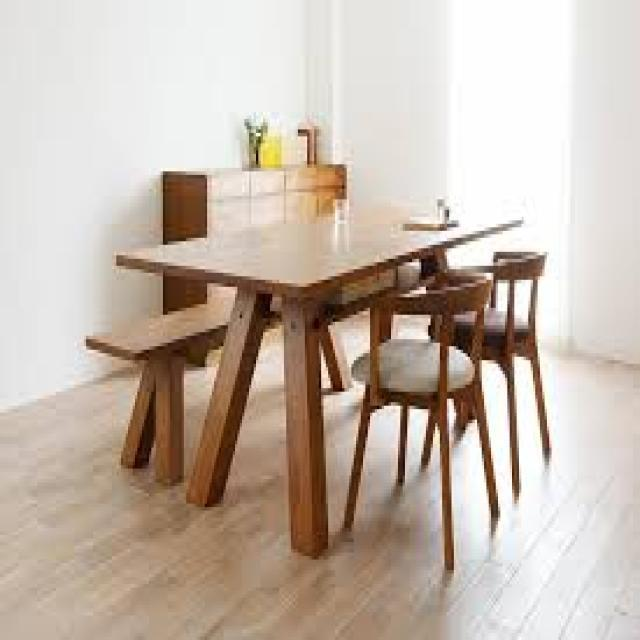table: (76, 188, 558, 578)
